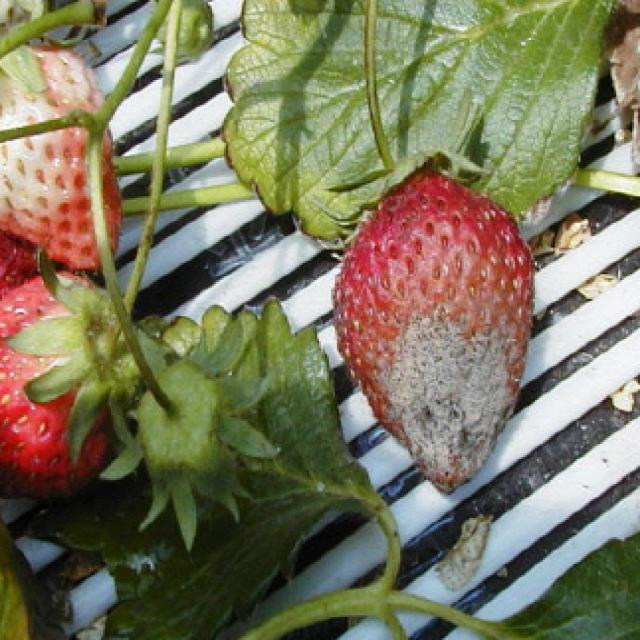Gray Mold: (332, 173, 535, 497)
